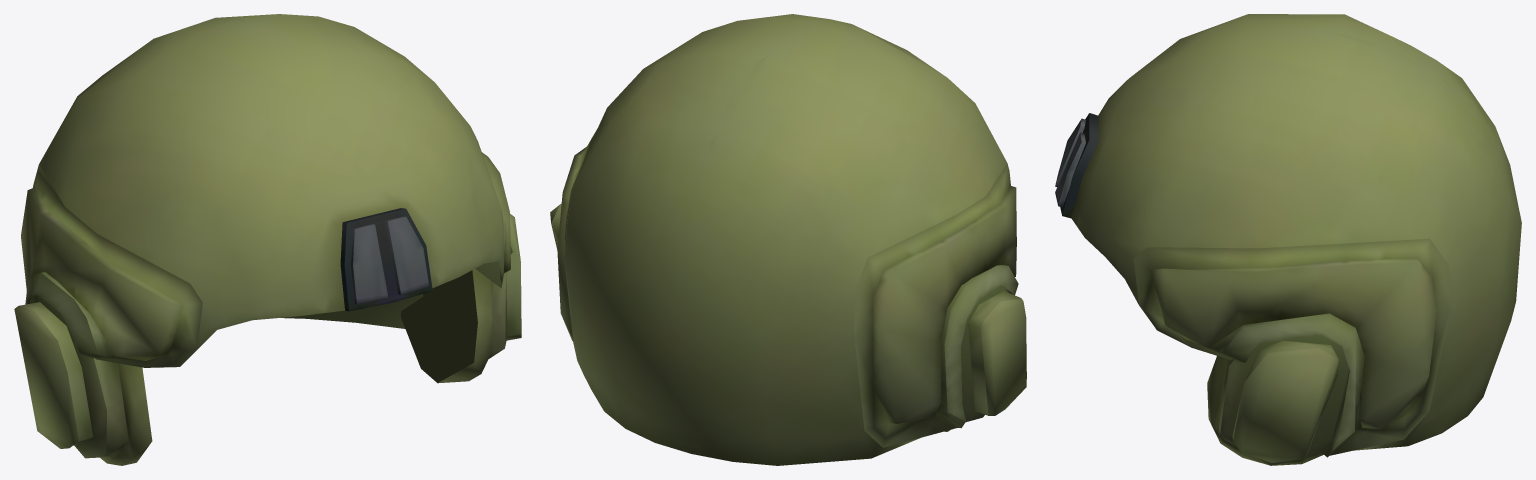
The model's file is Millitary_Hat.glb.
3 renders of one model, left to right at view 1: azimuth 30°, elevation 25°; view 2: azimuth 150°, elevation 25°; view 3: azimuth 270°, elevation 25°, orthographic. The views are drawn at different scales.
Visible parts, largest first — view 1: Millitary_Hat; view 2: Millitary_Hat; view 3: Millitary_Hat.
Part boxes in pixels (box(x1,y1,x2,y2)): Millitary_Hat: box(14, 14, 521, 465); Millitary_Hat: box(550, 14, 1026, 465); Millitary_Hat: box(1055, 14, 1521, 465).
Bounding box in the file's own units: 0.6026 × 0.4637 × 0.551.
Materials: 1 (1 with a texture image).
